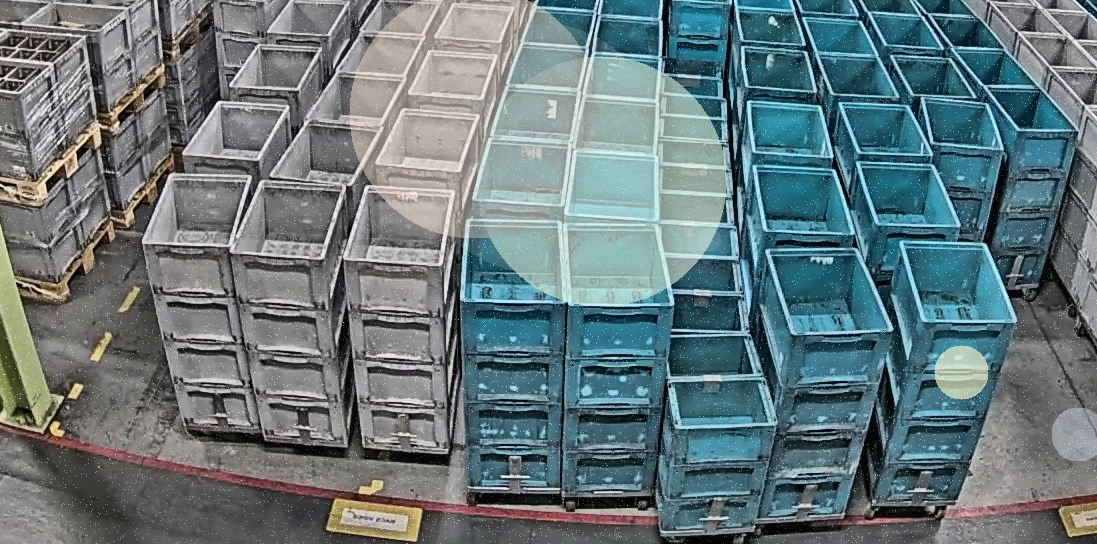4G: (230, 177, 358, 444), (140, 171, 264, 431), (341, 182, 460, 452)
B4: (864, 239, 1018, 503), (749, 247, 895, 519), (561, 222, 677, 494), (459, 217, 570, 491), (918, 94, 1007, 243)
B8: (656, 332, 779, 533)
